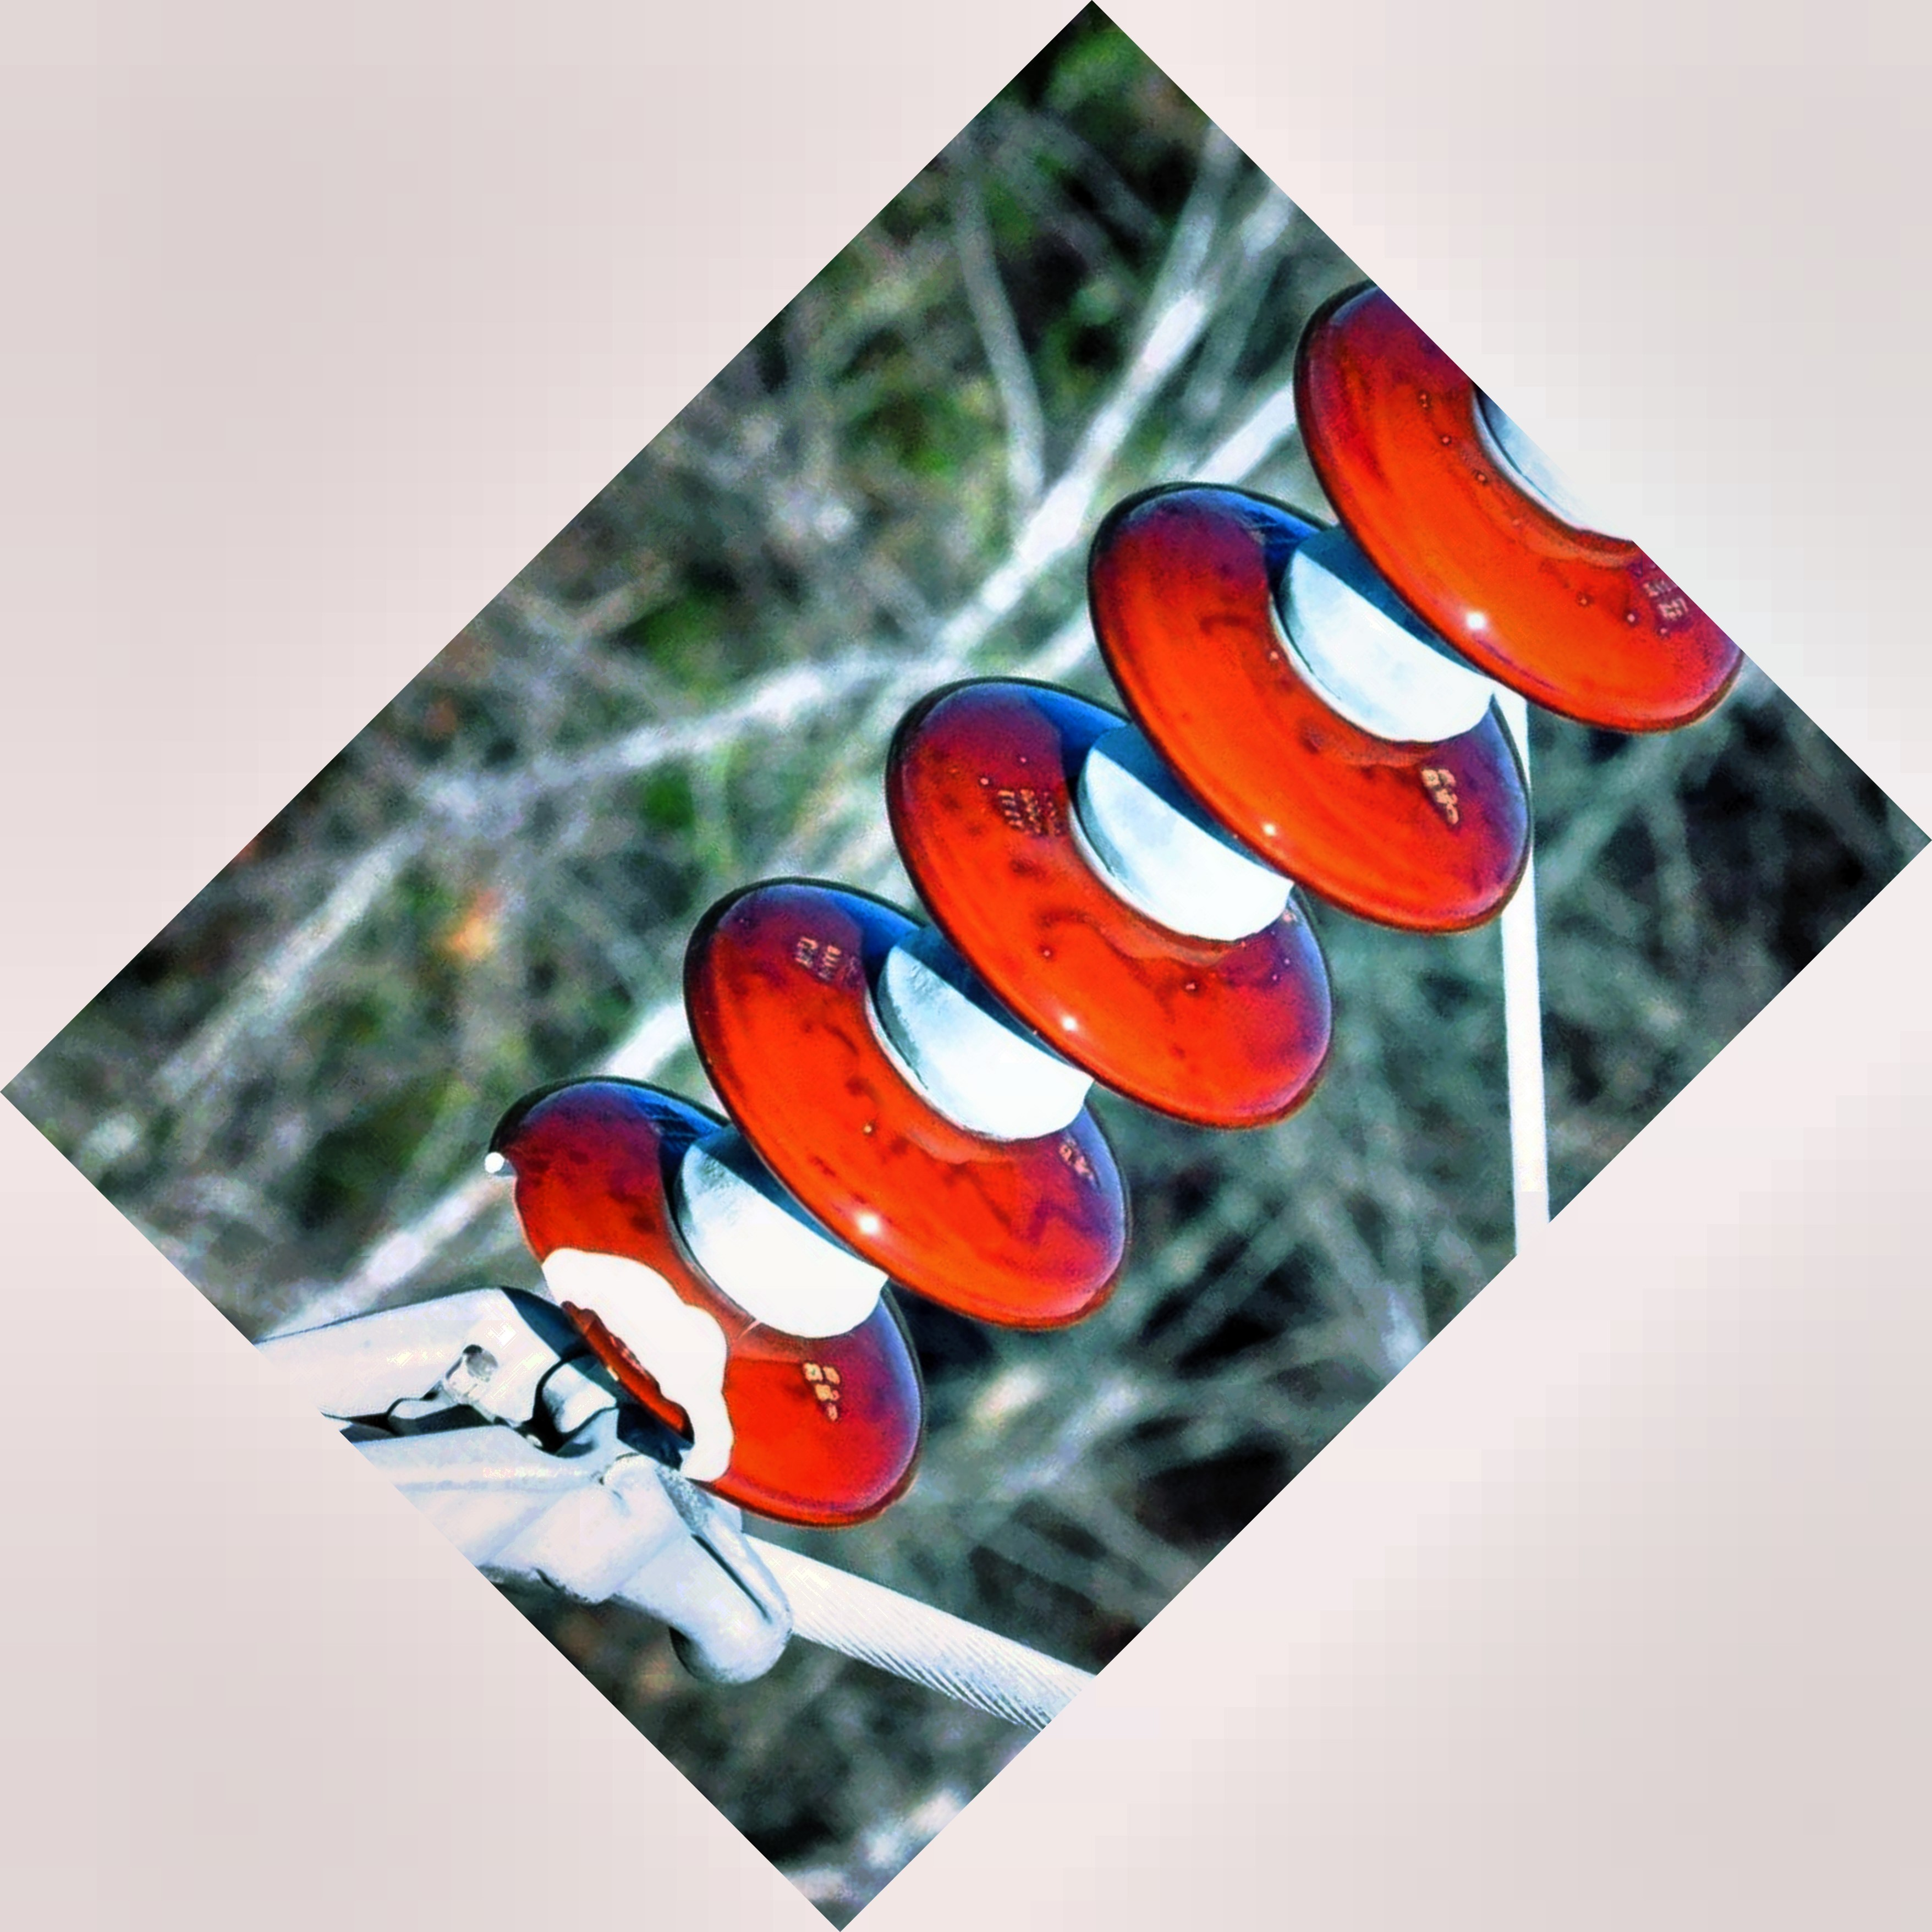insulator breakage: (435, 1067, 938, 1536)
